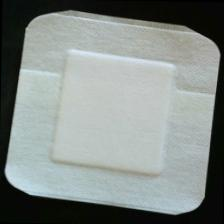Dressing: (3, 8, 224, 218)
